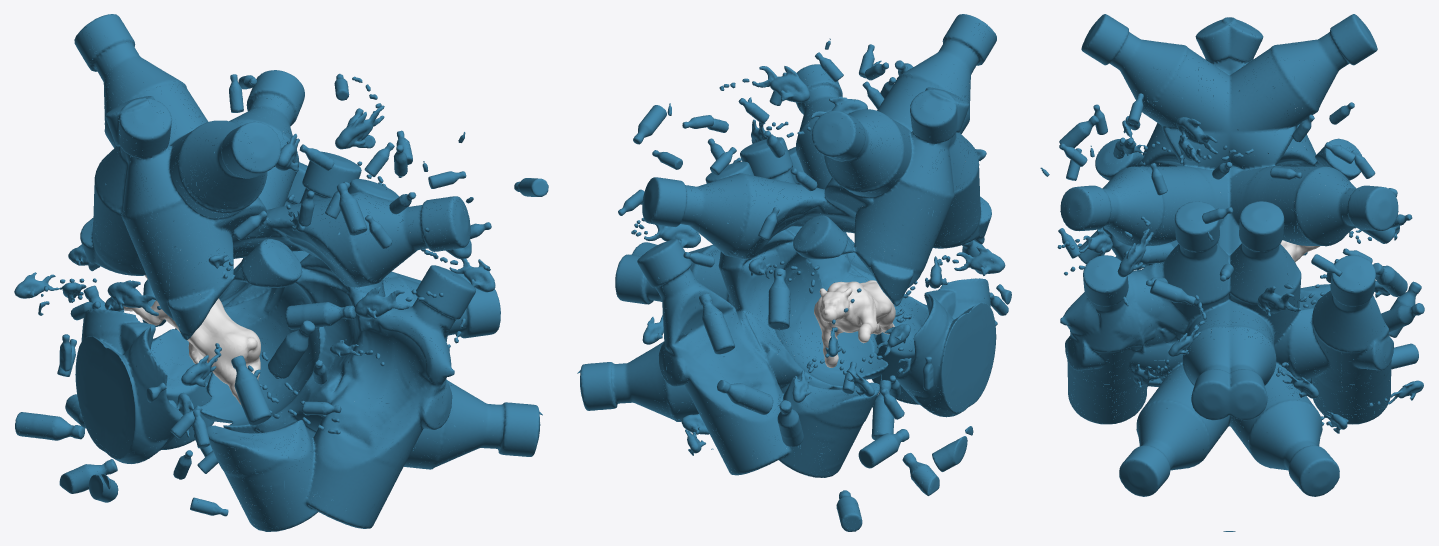
The model's file is plastico-basura.gltf.
The picture shows the model from 3 angles, left to right: view 1: azimuth 30°, elevation 25°; view 2: azimuth 150°, elevation 25°; view 3: azimuth 270°, elevation 25°; orthographic projection. The views are drawn at different scales.
Parts seen in each view (by area): view 1: SculptLayer_Layer_1_0.004, SculptLayer_Layer_1_0.003, SculptLayer_Layer_1_0.002, SculptLayer_Layer_1_0.001, SculptLayer_Layer_1_0.005, SculptLayer_Layer_1_0.006, SculptLayer_Layer_1, SculptLayer_Layer_1.001; view 2: SculptLayer_Layer_1_0.004, SculptLayer_Layer_1_0.003, SculptLayer_Layer_1_0.001, SculptLayer_Layer_1_0.005, SculptLayer_Layer_1_0.002, SculptLayer_Layer_1_0.006, SculptLayer_Layer_1, SculptLayer_Layer_1.001; view 3: SculptLayer_Layer_1_0.006, SculptLayer_Layer_1, SculptLayer_Layer_1_0.005, SculptLayer_Layer_1_0.002, SculptLayer_Layer_1_0.003, SculptLayer_Layer_1_0.004, SculptLayer_Layer_1_0.001, SculptLayer_Layer_1_0.007.
Boxes of the visible parts, bbox=[...] form: SculptLayer_Layer_1_0.004: bbox=[14, 22, 470, 528]; SculptLayer_Layer_1_0.003: bbox=[15, 14, 323, 530]; SculptLayer_Layer_1_0.002: bbox=[94, 68, 469, 527]; SculptLayer_Layer_1_0.001: bbox=[88, 144, 449, 531]; SculptLayer_Layer_1_0.005: bbox=[222, 74, 454, 527]; SculptLayer_Layer_1_0.006: bbox=[233, 70, 475, 469]; SculptLayer_Layer_1: bbox=[162, 132, 548, 531]; SculptLayer_Layer_1.001: bbox=[123, 275, 260, 405]; SculptLayer_Layer_1_0.004: bbox=[699, 21, 1011, 531]; SculptLayer_Layer_1_0.003: bbox=[776, 14, 996, 531]; SculptLayer_Layer_1_0.001: bbox=[707, 63, 991, 477]; SculptLayer_Layer_1_0.005: bbox=[642, 44, 896, 467]; SculptLayer_Layer_1_0.002: bbox=[741, 62, 986, 477]; SculptLayer_Layer_1_0.006: bbox=[637, 38, 881, 449]; SculptLayer_Layer_1: bbox=[577, 97, 918, 475]; SculptLayer_Layer_1.001: bbox=[814, 280, 895, 367]; SculptLayer_Layer_1_0.006: bbox=[1040, 135, 1412, 467]; SculptLayer_Layer_1: bbox=[1113, 184, 1385, 531]; SculptLayer_Layer_1_0.005: bbox=[1059, 113, 1423, 427]; SculptLayer_Layer_1_0.002: bbox=[1060, 55, 1397, 392]; SculptLayer_Layer_1_0.003: bbox=[1058, 14, 1421, 376]; SculptLayer_Layer_1_0.004: bbox=[1059, 14, 1422, 422]; SculptLayer_Layer_1_0.001: bbox=[1065, 94, 1424, 424]; SculptLayer_Layer_1_0.007: bbox=[1091, 208, 1363, 459].
Bounding box in the file's own units: 99.04 × 94.18 × 89.45.
